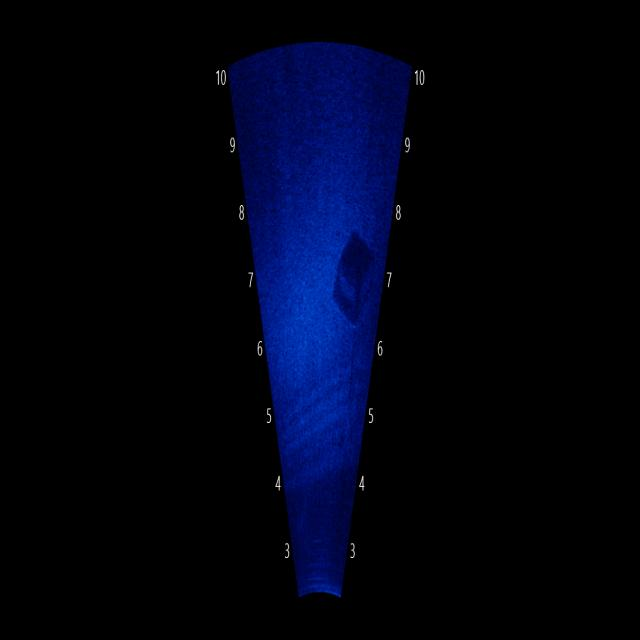square: (331, 199, 378, 338)
